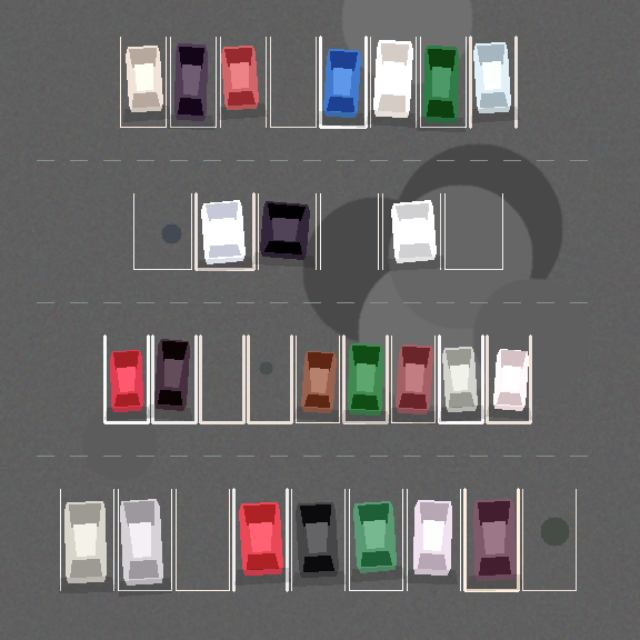space-empty: (522, 489, 576, 590), (176, 489, 229, 590), (133, 193, 191, 269), (320, 193, 378, 269), (444, 193, 502, 269), (270, 37, 316, 127), (200, 336, 243, 422), (248, 336, 291, 422)
space-occupied: (233, 489, 287, 590), (464, 489, 518, 590), (60, 489, 113, 590), (118, 489, 171, 590), (291, 489, 344, 590), (349, 489, 402, 590), (407, 489, 460, 590), (258, 193, 316, 269), (382, 193, 440, 269), (196, 193, 253, 269), (120, 37, 166, 127), (170, 37, 216, 127), (220, 37, 266, 127), (320, 37, 366, 127), (370, 37, 416, 127), (420, 37, 466, 127), (470, 37, 516, 127), (104, 336, 148, 422), (152, 336, 196, 422), (343, 336, 387, 422), (296, 336, 339, 422), (391, 336, 434, 422), (439, 336, 482, 422), (487, 336, 530, 422)
